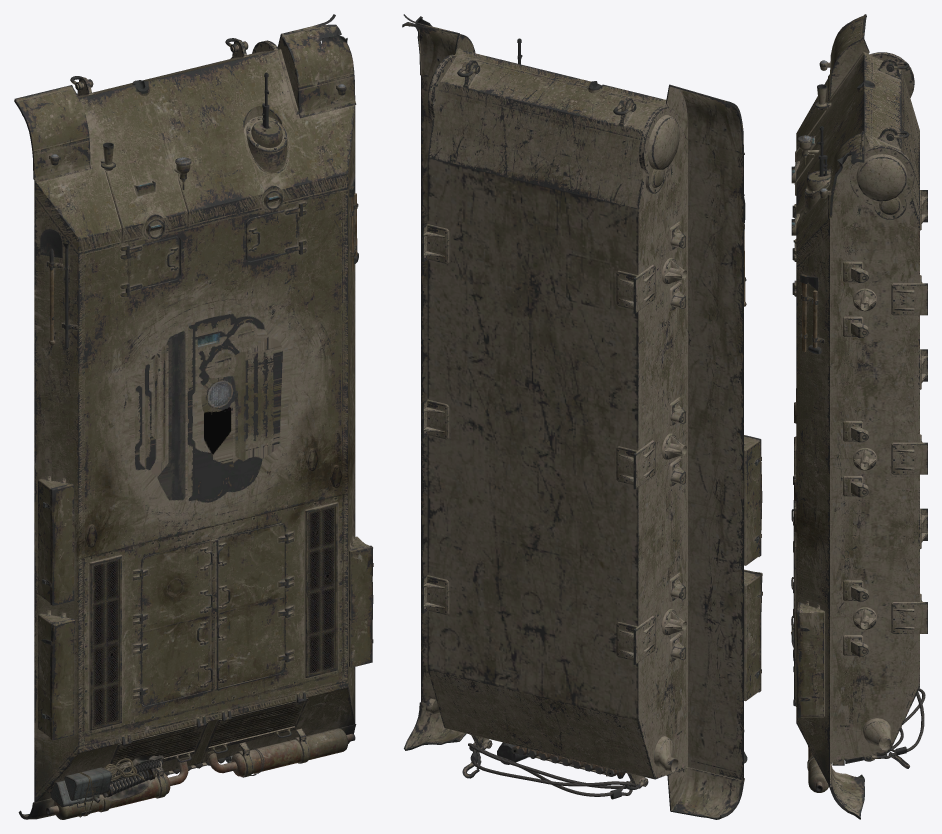
File: Hull.glb
3 views of the same model, side by side, from view 1: azimuth 30°, elevation 25°; view 2: azimuth 150°, elevation 25°; view 3: azimuth 270°, elevation 25° (orthographic). The views are drawn at different scales.
Visible parts, largest first — view 1: set_0_group_0; view 2: set_0_group_0; view 3: set_0_group_0.
Part boxes in pixels (x1,y1,x2,y2): set_0_group_0: [14, 14, 373, 819]; set_0_group_0: [402, 14, 762, 819]; set_0_group_0: [791, 14, 927, 819].
Bounding box in the file's own units: 3.23 × 6.89 × 1.27.
Materials: 1 (1 with a texture image).
